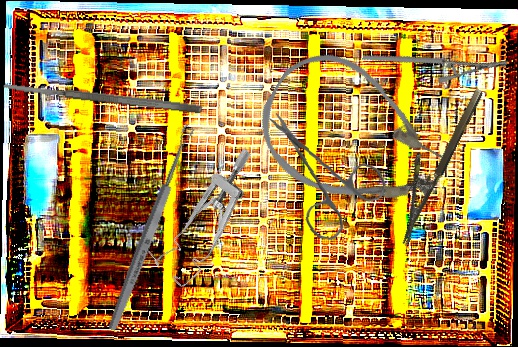Cannula: (240, 34, 460, 238)
Iris Scissors: (259, 112, 391, 244)
Needle Holder: (377, 77, 486, 247), (361, 9, 509, 111)
Spatula Surgical: (1, 79, 203, 116)
Speculum: (137, 146, 287, 291)
Surgical Spoon: (105, 123, 197, 333)
